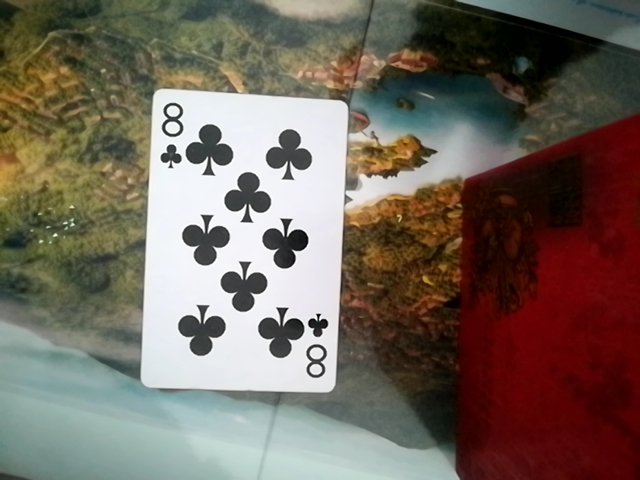mh 8: (133, 79, 341, 391)
